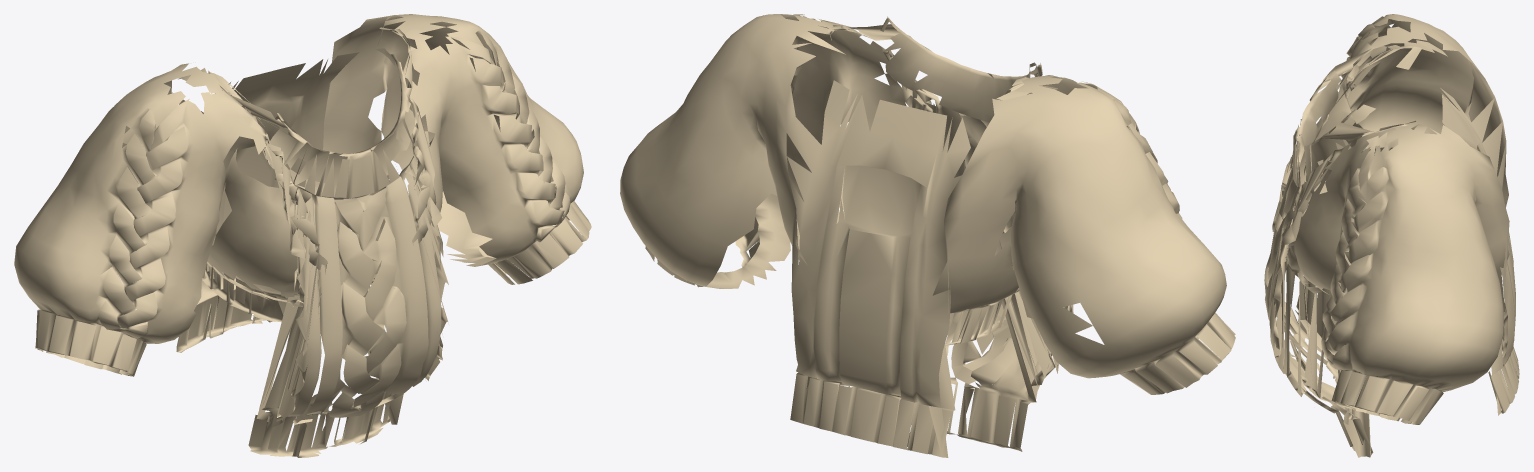
File: top_m2_sweater.glb
3 views of the same model, side by side, from view 1: azimuth 30°, elevation 25°; view 2: azimuth 150°, elevation 25°; view 3: azimuth 270°, elevation 25° (orthographic). The views are drawn at different scales.
Parts seen in each view (by area): view 1: top_m2_sweater; view 2: top_m2_sweater; view 3: top_m2_sweater.
Part boxes in pixels (x1,y1,x2,y2): top_m2_sweater: (14,14,591,457); top_m2_sweater: (620,14,1235,457); top_m2_sweater: (1264,14,1519,457).
Bounding box in the file's own units: 0.853 × 0.5758 × 0.3747.
Materials: 1 (1 with a texture image).
